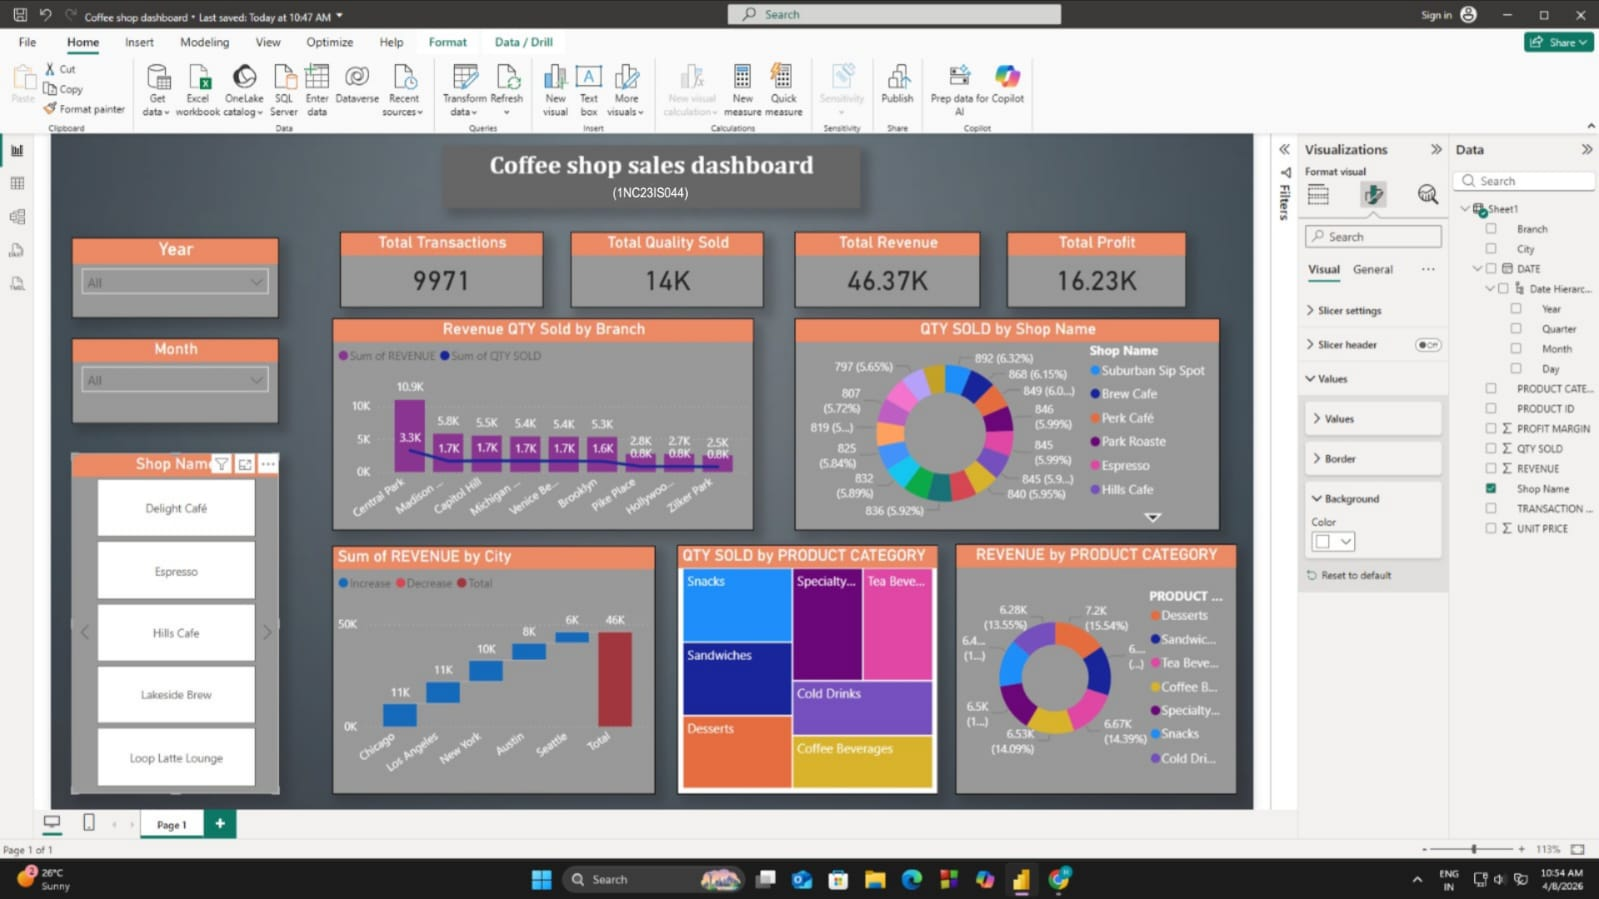

What the dashboard file says about the page in this screenshot:
{"tool":"powerbi","page":{"name":"Page 1","canvas":[1280,720],"ordinal":0},"visuals":[{"type":"textbox","box":[346.2,18.8,711.2,68.8],"z":0},{"type":"image","box":[213.8,10,123.8,77.5],"z":1000},{"type":"textbox","box":[157.5,103.8,1122.5,616.2],"z":2000},{"type":"slicer","title":"Shop Name","fields":{"Values":["Sheet1.Shop Name"]},"box":[3.8,346.2,148.8,371.2],"z":3000},{"type":"slicer","title":"Month","fields":{"Values":["Sheet1.DATE.Variation.Date Hierarchy.Month"]},"box":[6.2,252.5,146.2,81.2],"z":4000},{"type":"slicer","title":"Year","fields":{"Values":["Sheet1.DATE.Variation.Date Hierarchy.Year"]},"box":[2.5,117.5,152.5,115],"z":5000},{"type":"card","title":"Total Transaction","fields":{"Values":["Count(Sheet1.TRANSACTION ID)"]},"box":[177.5,140,233.8,112.5],"z":6000},{"type":"card","title":"Total Quality Sold ","fields":{"Values":["Sum(Sheet1.QTY SOLD)"]},"box":[435,140,227.5,112.5],"z":7000},{"type":"card","title":"Total Profit","fields":{"Values":["Sum(Sheet1.PROFIT MARGIN)"]},"box":[975,140,258.8,112.5],"z":8000},{"type":"card","title":"Total Revenue","fields":{"Values":["Sum(Sheet1.REVENUE)"]},"box":[696.2,140,256.2,112.5],"z":9000},{"type":"lineStackedColumnComboChart","title":"Revenue Qty Sold by Branch","fields":{"Y":["Sum(Sheet1.REVENUE)","Sum(Sheet1.QTY SOLD)"],"Category":["Sheet1.Branch"],"Y2":["Sum(Sheet1.REVENUE)"]},"box":[177.5,273.8,483.8,215],"z":10000},{"type":"waterfallChart","title":"Total Revenue By City","fields":{"Y":["Sum(Sheet1.REVENUE)"],"Category":["Sheet1.City"]},"box":[177.5,505,462.5,215],"z":11000},{"type":"donutChart","title":"Total Revenue by Product Category","fields":{"Y":["Sum(Sheet1.REVENUE)"],"Category":["Sheet1.PRODUCT CATEGORY"]},"box":[868.8,505,398.8,215],"z":12000},{"type":"donutChart","title":"Quantity by Shop Name","fields":{"Category":["Sheet1.Shop Name"],"Y":["Sum(Sheet1.QTY SOLD)"]},"box":[718.8,273.8,515,215],"z":13000},{"type":"treemap","title":"Total Qty Sold By Product Category","fields":{"Values":["Sum(Sheet1.QTY SOLD)"],"Group":["Sheet1.PRODUCT CATEGORY"]},"box":[652.5,505,205,215],"z":14000},{"type":"textbox","box":[7.5,10,206.2,77.5],"z":15000},{"type":"textbox","box":[860,372.5,78.8,38.8],"z":16000}]}

Visuals, with their boxes on the page's 1280x720 design canvas (x1, y1, x2, y2). These are canvas units, not pixel positions in the 1599x899 screenshot, which may show the page scaled, cropped or inside an application window:
textbox: detection(346, 19, 1057, 88)
image: detection(214, 10, 338, 88)
textbox: detection(158, 104, 1280, 720)
"Shop Name" slicer: detection(4, 346, 153, 717)
"Month" slicer: detection(6, 252, 152, 334)
"Year" slicer: detection(2, 118, 155, 232)
"Total Transaction" card: detection(178, 140, 411, 252)
"Total Quality Sold " card: detection(435, 140, 662, 252)
"Total Profit" card: detection(975, 140, 1234, 252)
"Total Revenue" card: detection(696, 140, 952, 252)
"Revenue Qty Sold by Branch" lineStackedColumnComboChart: detection(178, 274, 661, 489)
"Total Revenue By City" waterfallChart: detection(178, 505, 640, 720)
"Total Revenue by Product Category" donutChart: detection(869, 505, 1268, 720)
"Quantity by Shop Name" donutChart: detection(719, 274, 1234, 489)
"Total Qty Sold By Product Category" treemap: detection(652, 505, 858, 720)
textbox: detection(8, 10, 214, 88)
textbox: detection(860, 372, 939, 411)
